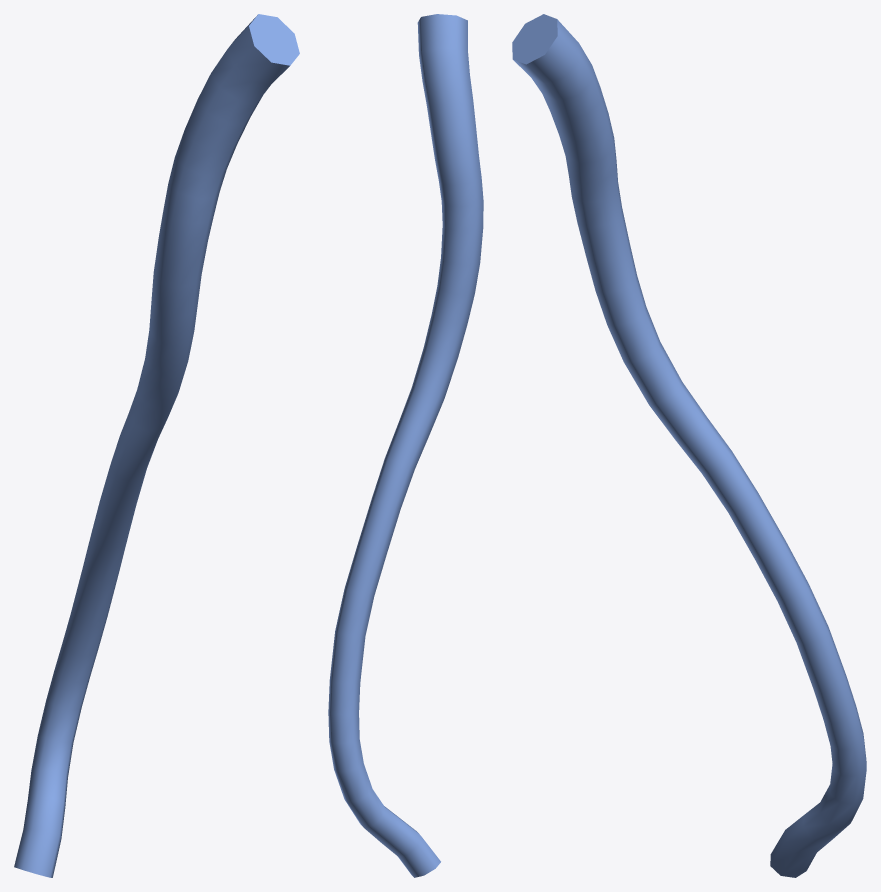
File: veine-poplitee.glb
3 renders of one model, left to right at view 1: azimuth 30°, elevation 25°; view 2: azimuth 150°, elevation 25°; view 3: azimuth 270°, elevation 25°, orthographic. The views are drawn at different scales.
Visible parts, largest first — view 1: veine-poplitee; view 2: veine-poplitee; view 3: veine-poplitee.
Part boxes in pixels (x1=…): veine-poplitee: x1=14, y1=14, x2=299, y2=877; veine-poplitee: x1=328, y1=14, x2=483, y2=877; veine-poplitee: x1=512, y1=14, x2=866, y2=877.
Bounding box in the file's own units: 0.028 × 0.1642 × 0.0585.
